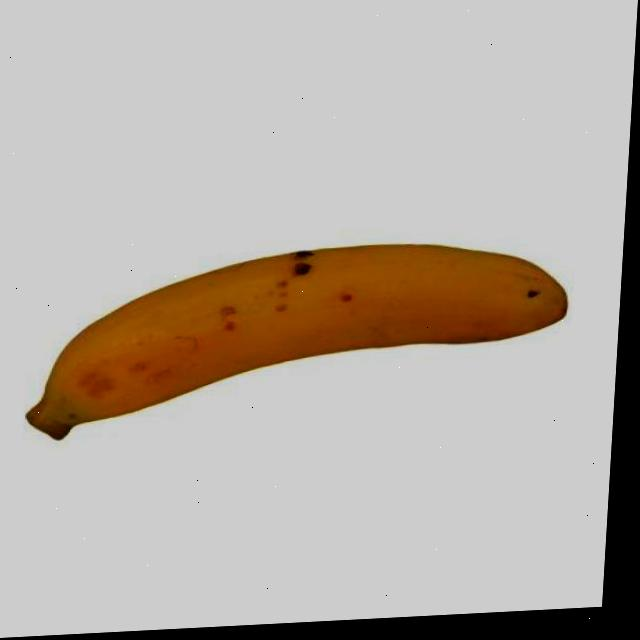banana: (18, 229, 579, 449)
